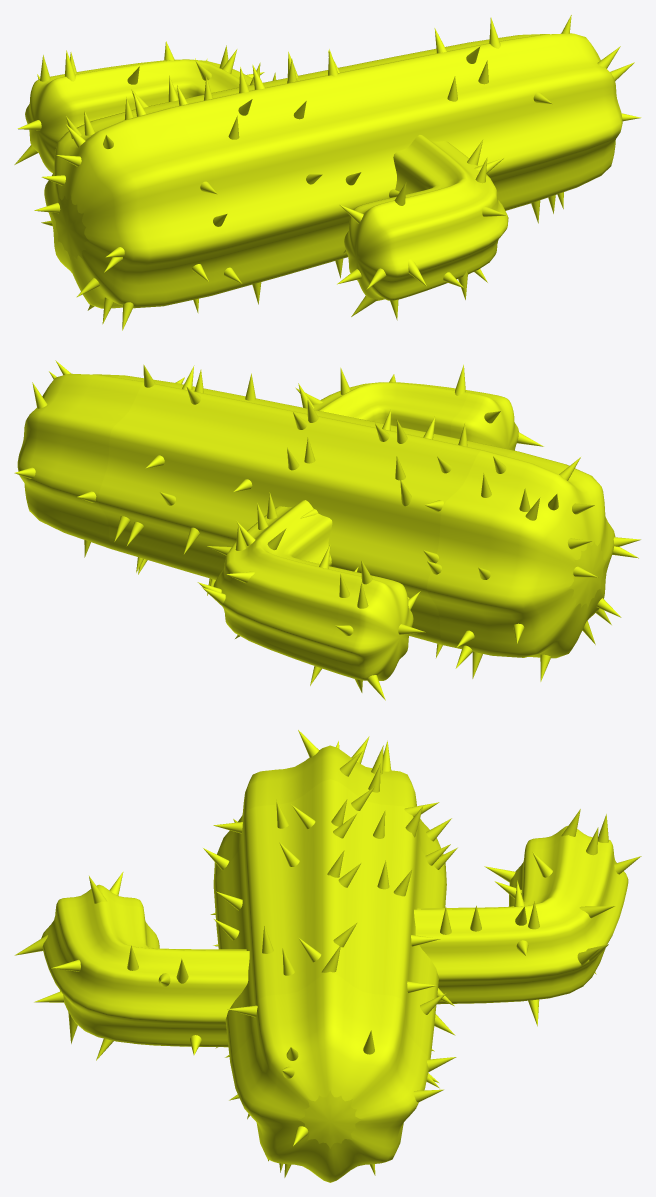
File: cactus.fbx
The picture shows the model from 3 angles, top to bottom: view 1: azimuth 30°, elevation 25°; view 2: azimuth 150°, elevation 25°; view 3: azimuth 270°, elevation 25°; orthographic projection. The views are drawn at different scales.
Parts seen in each view (by area): view 1: Extrude_7; view 2: Extrude_7; view 3: Extrude_7.
Boxes of the visible parts, x1,y1,x2,y2 form: Extrude_7: (14,15,641,330); Extrude_7: (14,360,640,700); Extrude_7: (14,730,641,1182).
Size of the model in its own units: 23.18 by 8.43 by 19.45.
